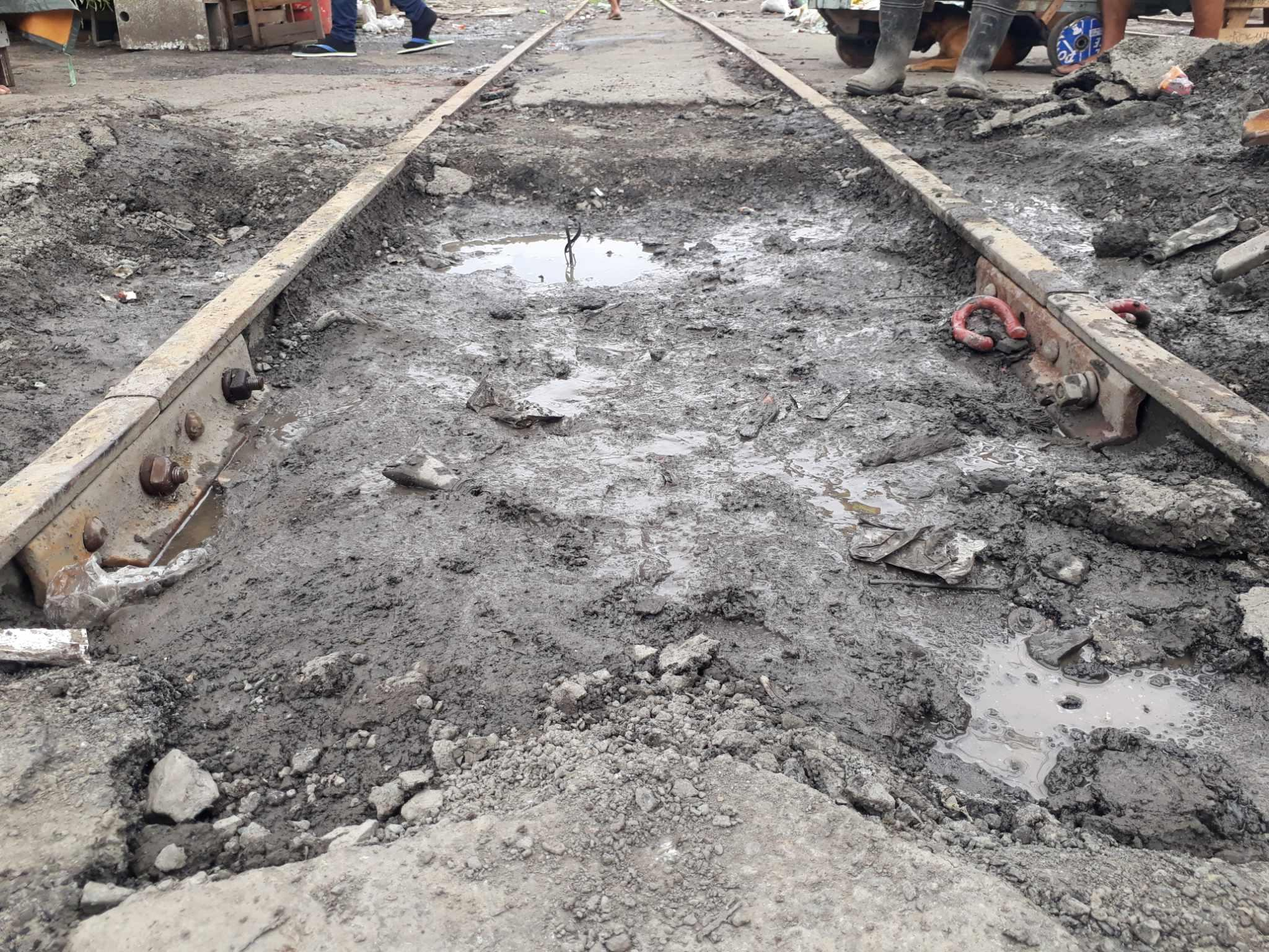railway-gap: (1008, 246, 1114, 335), (79, 349, 176, 438)
